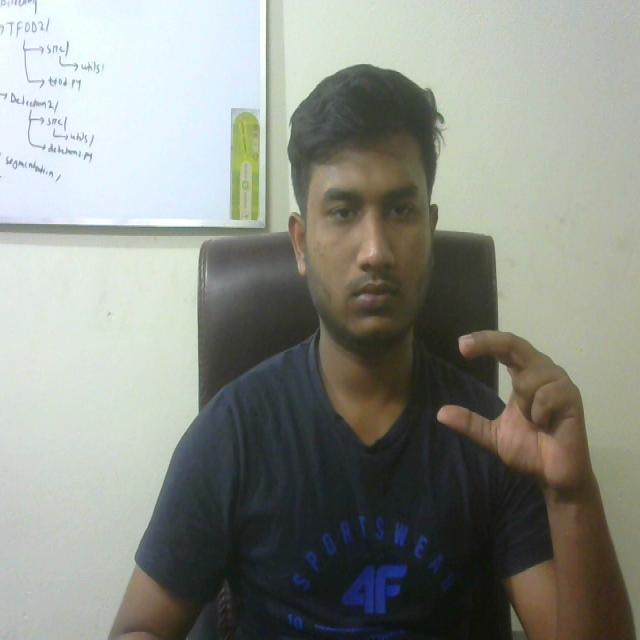No: (426, 316, 604, 514)
